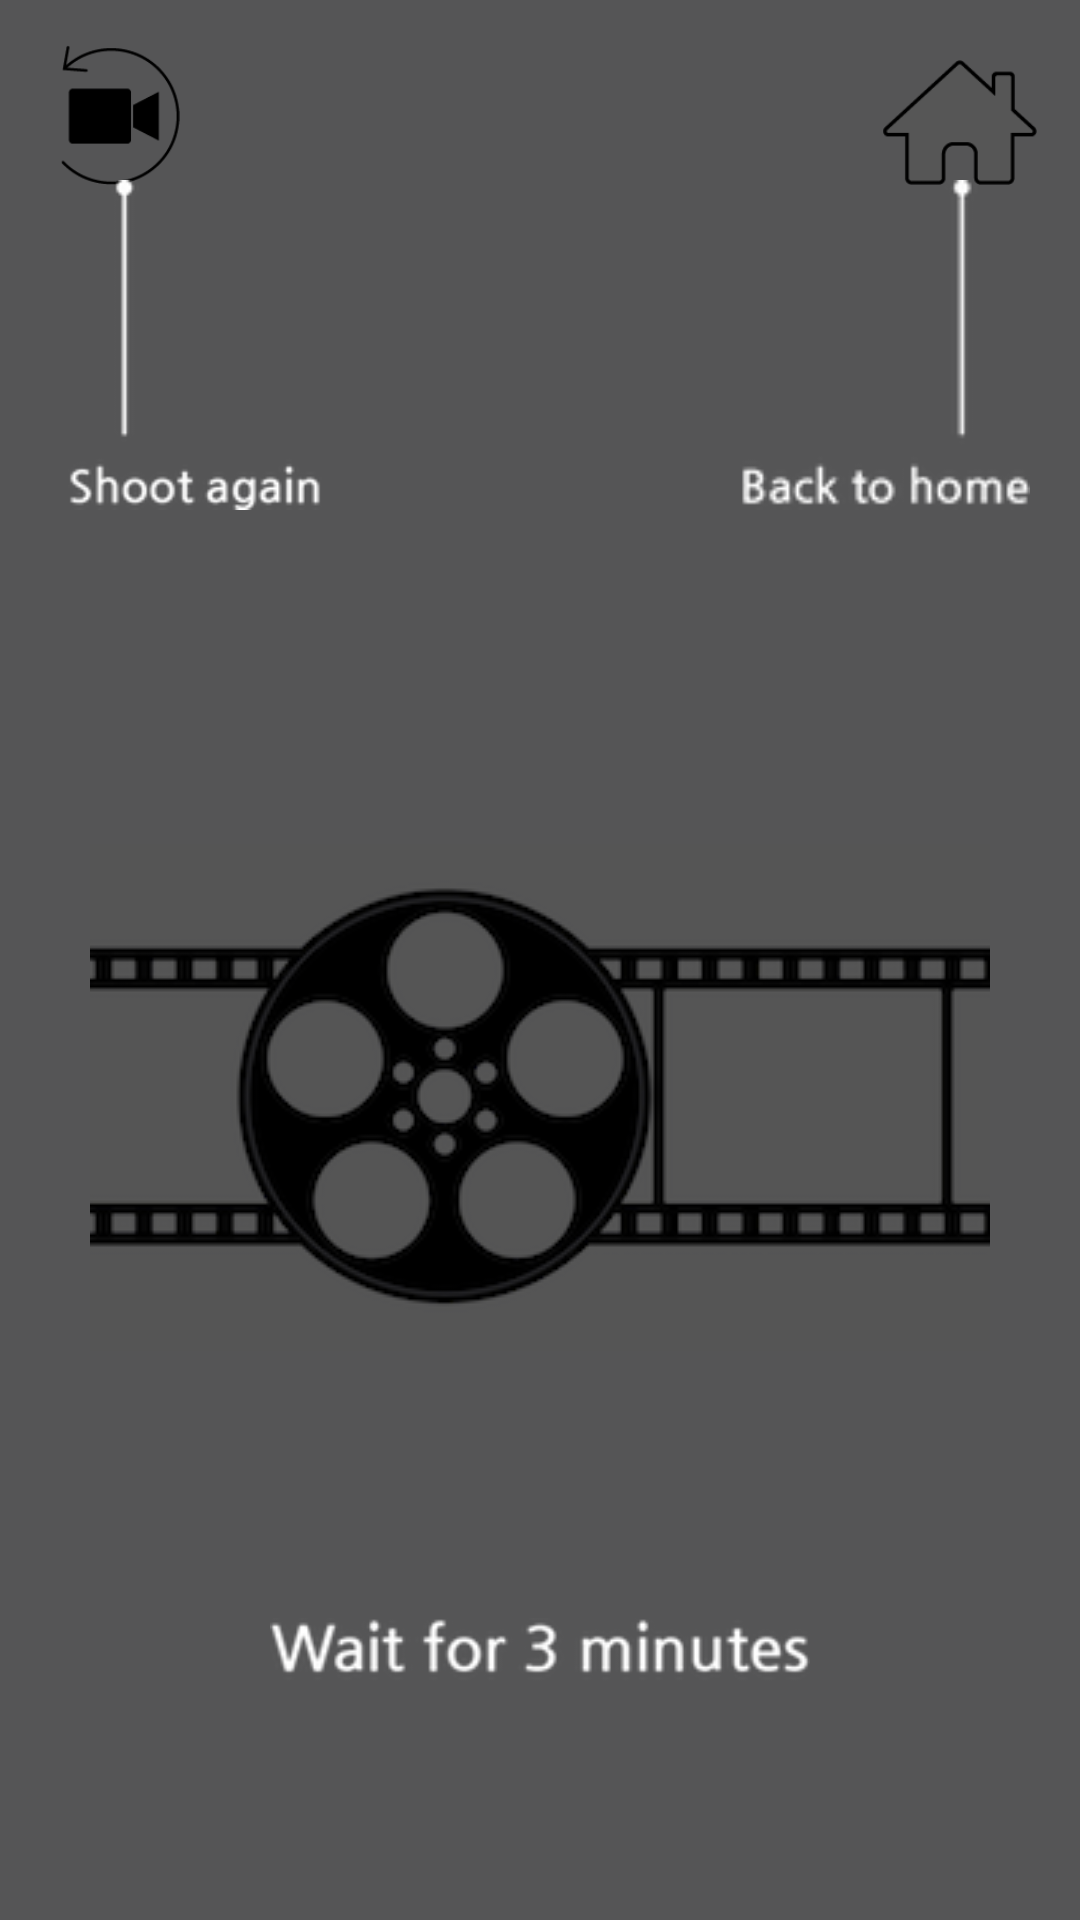

Icon click points for this 1080px x 1920px phone screenshot, format point (x, y):
home: point (960, 122)
reshoot: point (113, 116)
